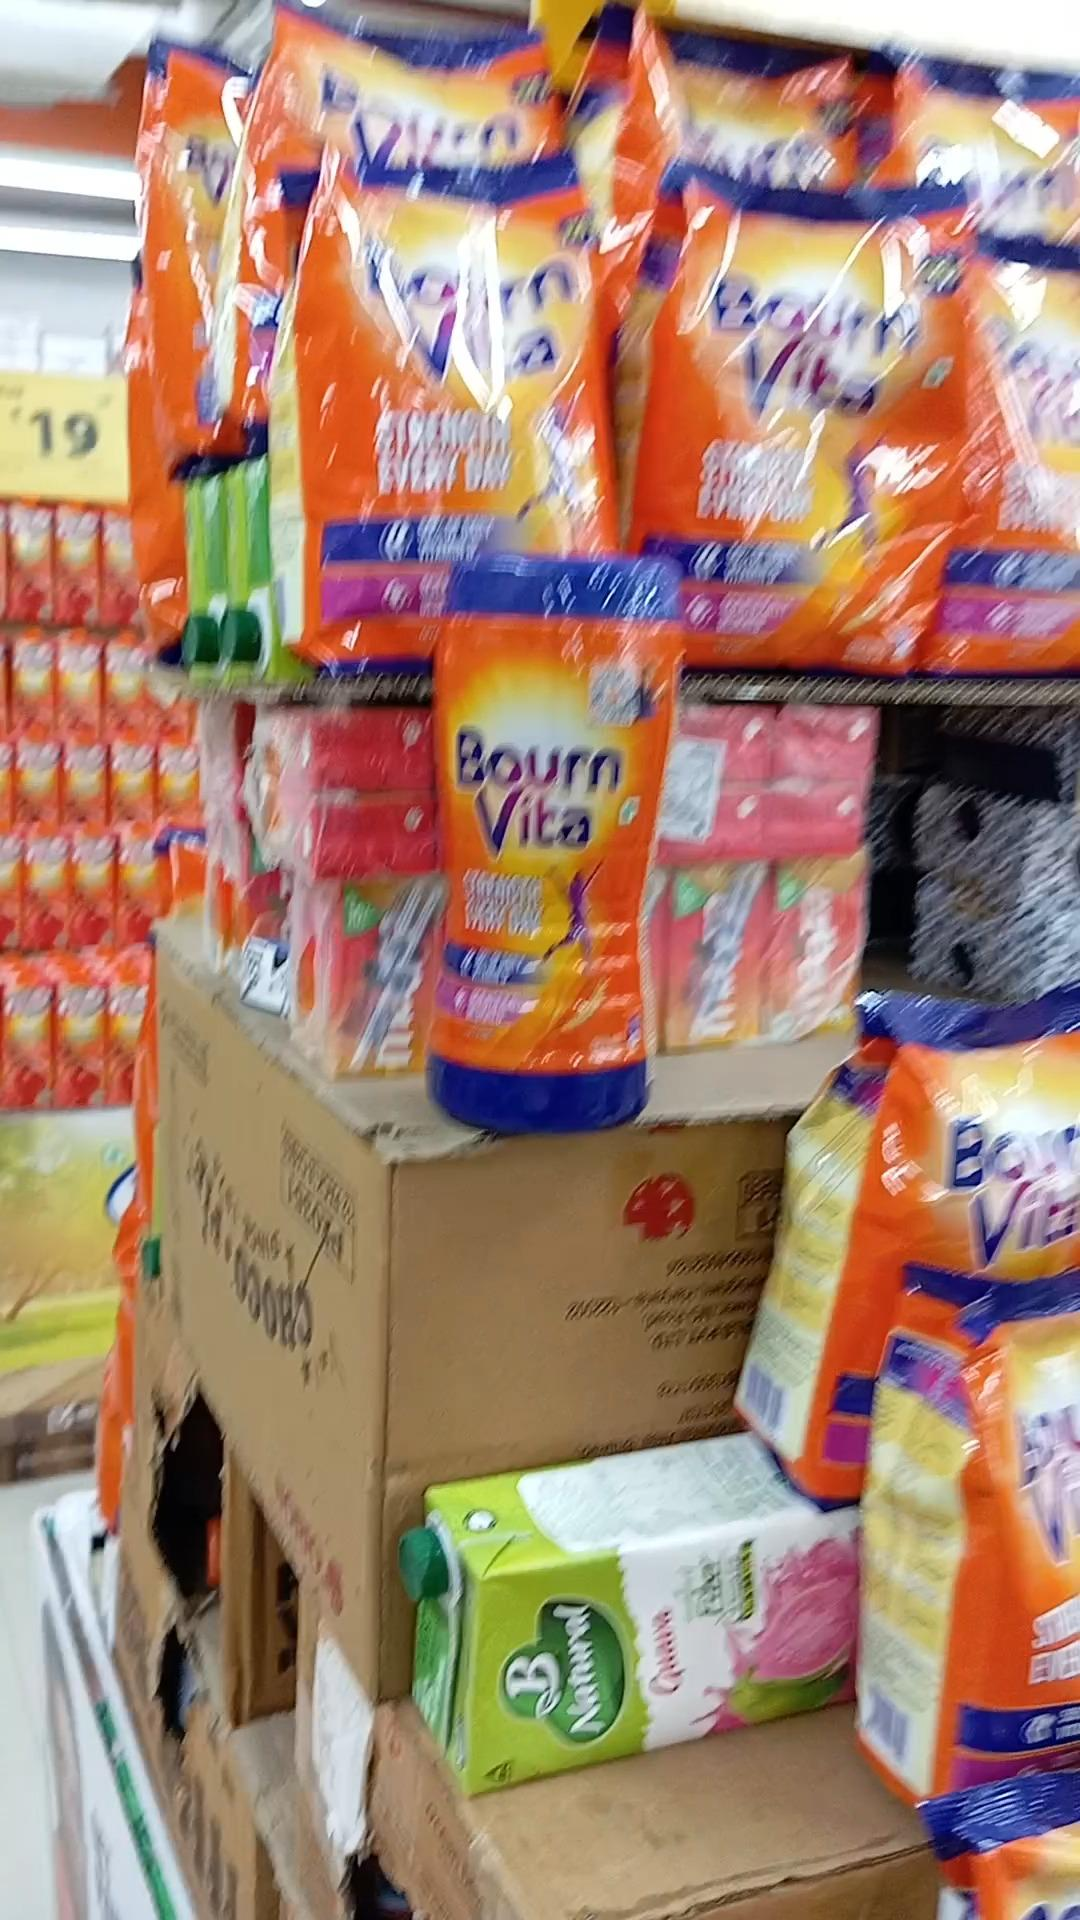COMPLAN_CHOCOLATE_200_GMS_JAR: (430, 539, 666, 1149)
